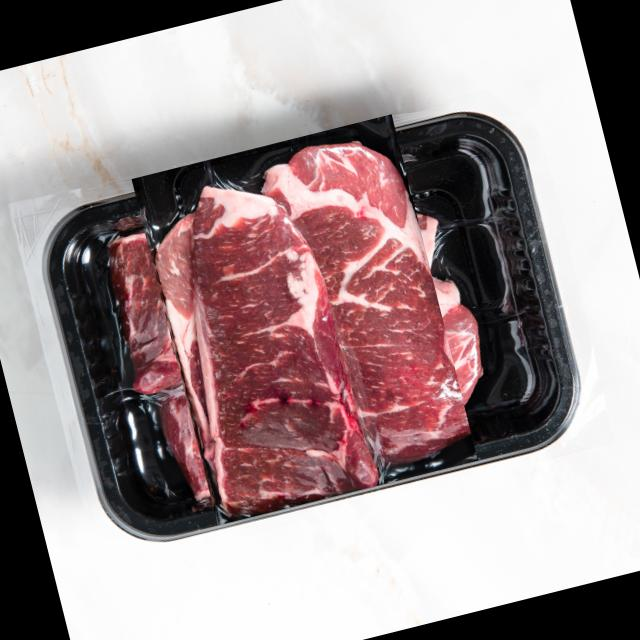beef: (115, 130, 494, 510)
